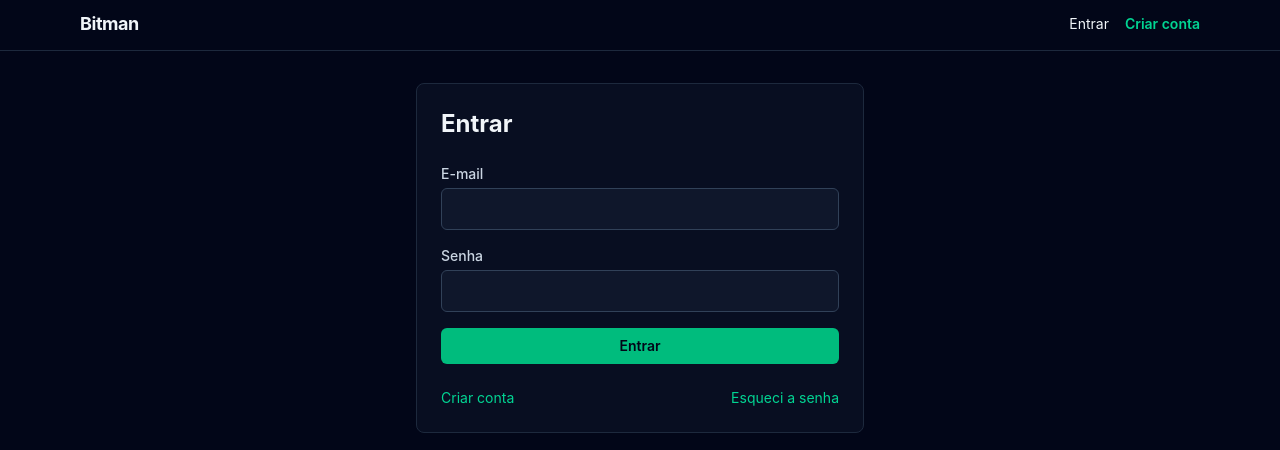
it: LoginPage › entra e volta para o destino interno pedido em ?next=
In the field labelled "E-mail": [640, 209] box [441,188,839,230], type "ada@example.com"
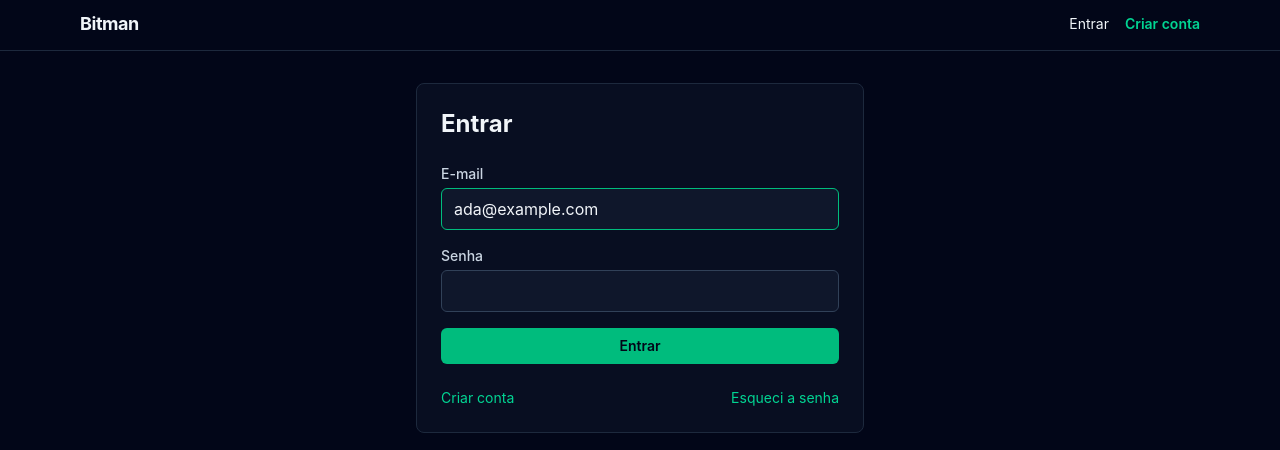
In the password field labelled "Senha": [640, 291] box [441,270,839,312], type "senha-forte-1"
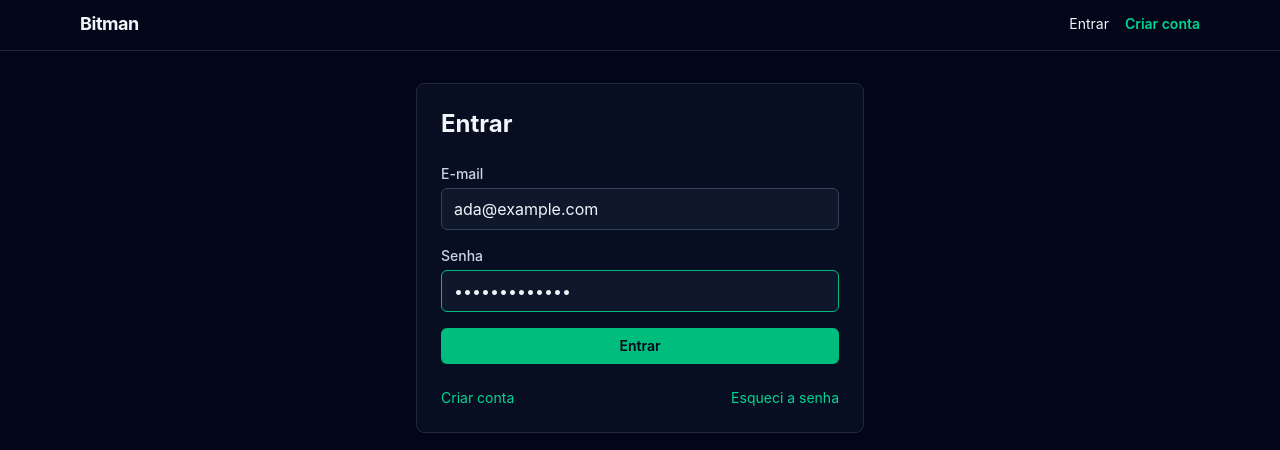
Click the button "Entrar": [640, 346] box [441,328,839,364]
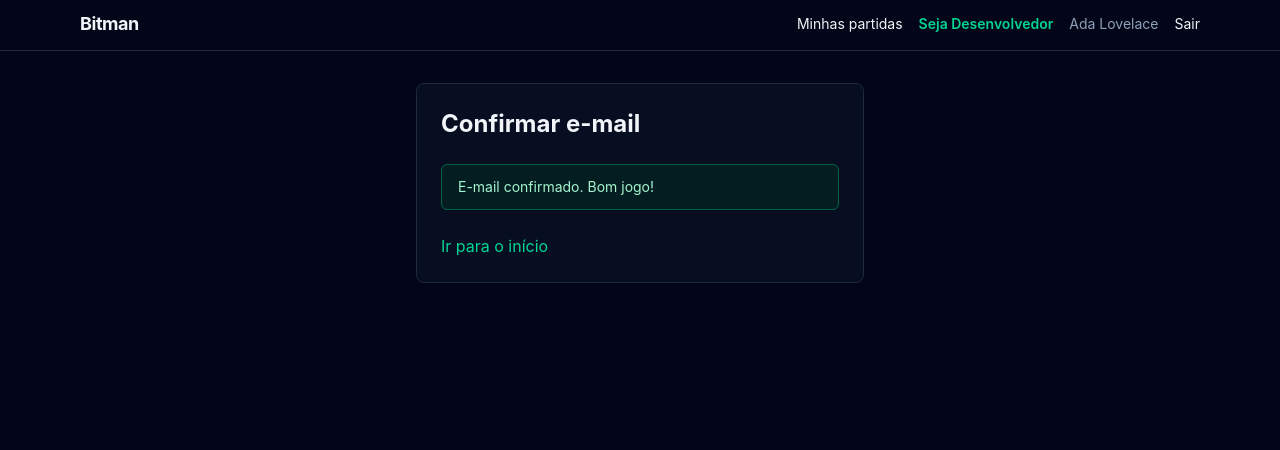
Check: the heading "Confirmar e-mail" is shown, box [441,109,640,138]
